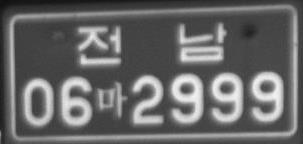0: (22, 76, 55, 127)
2: (132, 73, 165, 125)
6: (60, 75, 93, 127)
9: (170, 72, 205, 124), (210, 71, 244, 124), (250, 70, 284, 123)
마: (95, 81, 128, 118)
전남_D: (78, 22, 227, 65)
